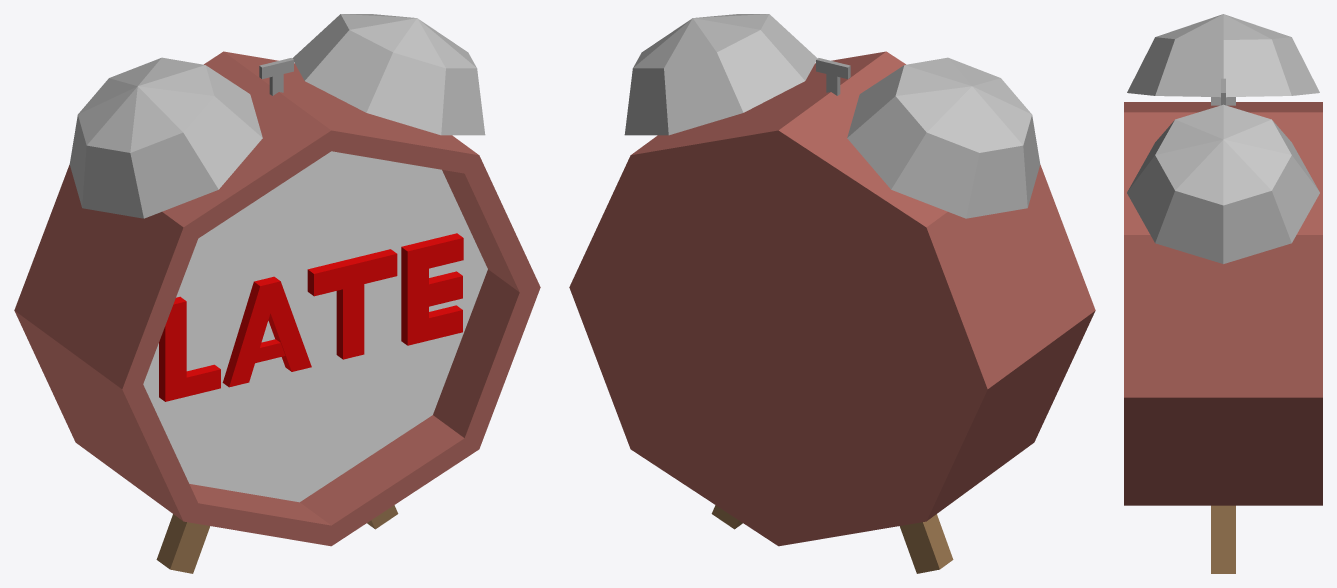
Rendered from Clock.fbx.
3 views of the same model, side by side, from view 1: azimuth 30°, elevation 25°; view 2: azimuth 150°, elevation 25°; view 3: azimuth 270°, elevation 25° (orthographic). The views are drawn at different scales.
Visible parts, largest first — view 1: polySurface5, pSphere1, pCube19, pSphere2, polySurface1, polySurface7; view 2: polySurface5, pSphere1, pSphere2, polySurface1, polySurface7; view 3: polySurface5, pSphere2, pSphere1, polySurface4.
Boxes of the visible parts, <box> form: polySurface5: <box>14,51,540,546</box>; pSphere1: <box>69,57,262,218</box>; pCube19: <box>159,233,463,401</box>; pSphere2: <box>292,14,485,135</box>; polySurface1: <box>156,514,210,573</box>; polySurface7: <box>259,58,293,95</box>; polySurface5: <box>569,51,1095,546</box>; pSphere1: <box>847,57,1040,218</box>; pSphere2: <box>624,14,817,135</box>; polySurface1: <box>899,514,953,573</box>; polySurface7: <box>816,58,850,95</box>; polySurface5: <box>1124,102,1322,505</box>; pSphere2: <box>1127,104,1319,263</box>; pSphere1: <box>1127,14,1319,97</box>; polySurface4: <box>1211,505,1235,573</box>.
Size of the model in its own units: 16.03 by 18.28 by 7.16.
